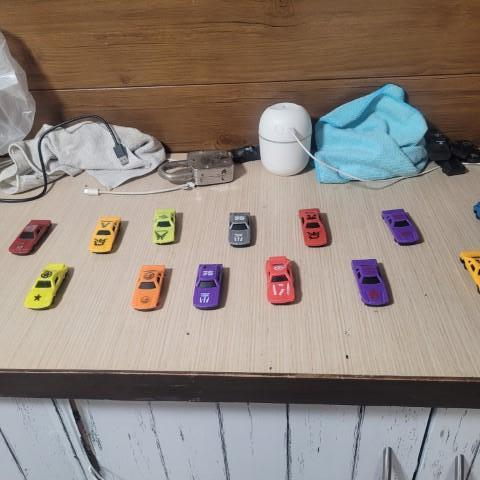car: (23, 262, 72, 313), (350, 256, 392, 308), (263, 251, 297, 306), (8, 216, 54, 256), (130, 263, 167, 312), (192, 261, 225, 311), (380, 208, 422, 245), (88, 215, 123, 256), (295, 205, 328, 247), (226, 206, 253, 249), (151, 207, 178, 245)
